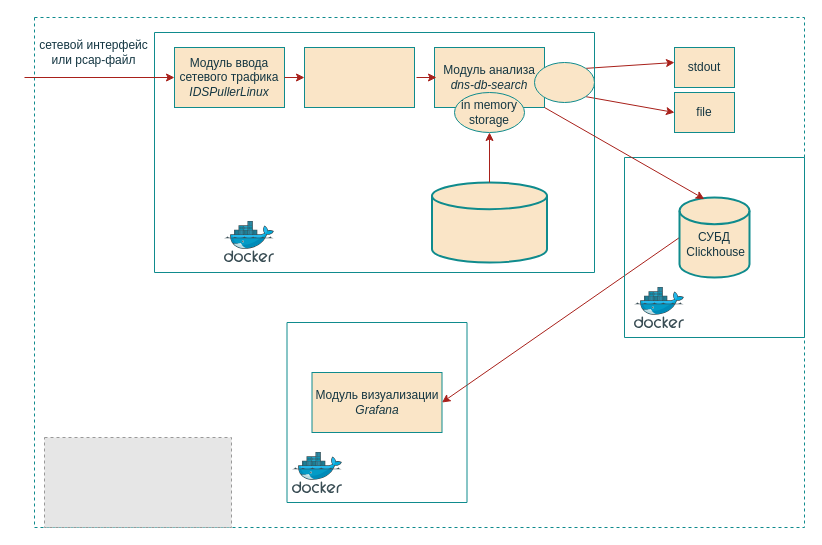
The diagram is 822 pixels wide and 545 high, and some of its shapes have lost their labels. Grey dashed boxes stand in for pictures. The shapes that lost their labels are listed below. From the top down, each one's centre as x and y in pixels, then its label:
pixel 359 77: Модуль приема и разбора DNS пакетов IDSDNSAnalizer
pixel 564 82: spdlog
pixel 489 222: Kaspersky Threat Inteligence Data Feeds
